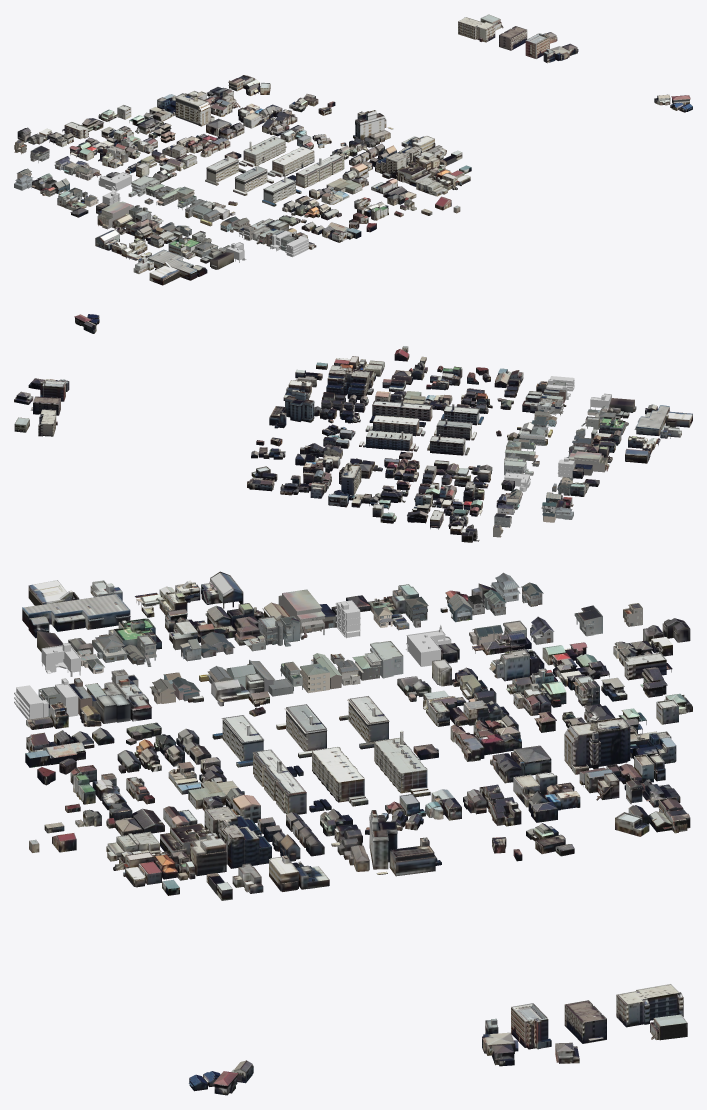
The model's file is lod3-station-2-1-packed.glb.
3 views of the same model, one above another, from view 1: azimuth 30°, elevation 25°; view 2: azimuth 150°, elevation 25°; view 3: azimuth 270°, elevation 25° (orthographic). The views are drawn at different scales.
Bounding box in the file's own units: 619 × 27.29 × 349.
44 materials, 43 textured.
